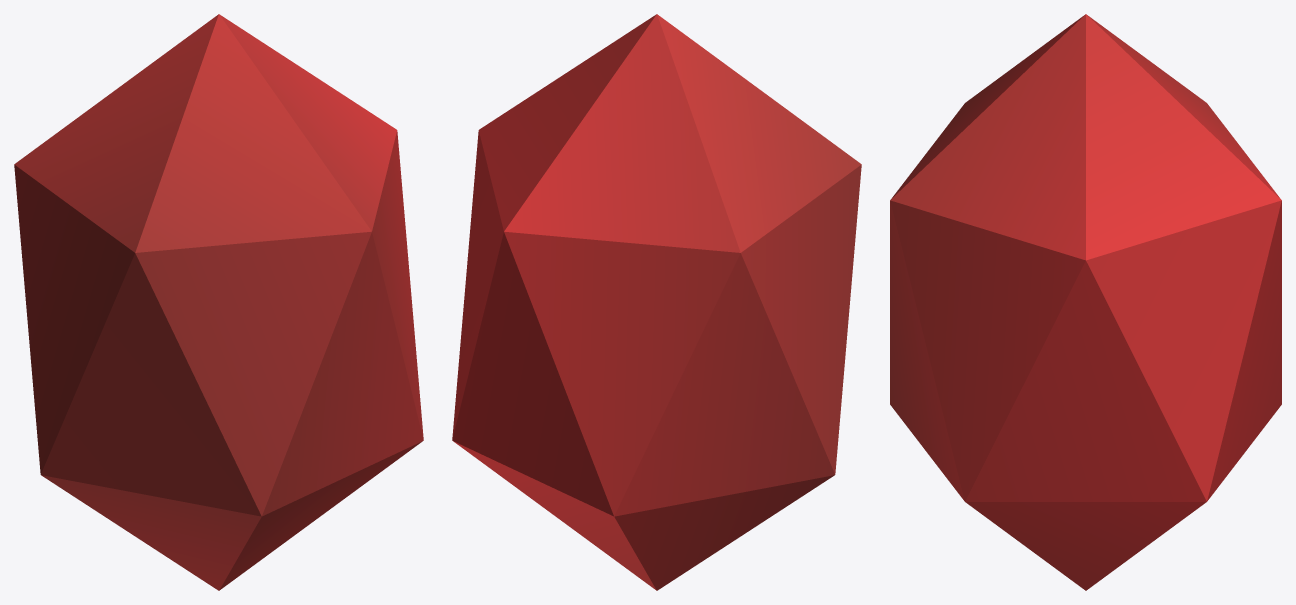
Rendered from Ruby.fbx.
3 views of the same model, side by side, from view 1: azimuth 30°, elevation 25°; view 2: azimuth 150°, elevation 25°; view 3: azimuth 270°, elevation 25° (orthographic).
Visible parts, largest first — view 1: RUBY.001; view 2: RUBY.001; view 3: RUBY.001.
Part boxes in pixels (x1=…): RUBY.001: x1=14, y1=14, x2=423, y2=590; RUBY.001: x1=452, y1=14, x2=861, y2=590; RUBY.001: x1=890, y1=14, x2=1281, y2=590.
Size of the model in its own units: 175 by 270 by 166.
Materials: 1 (1 with a texture image).
